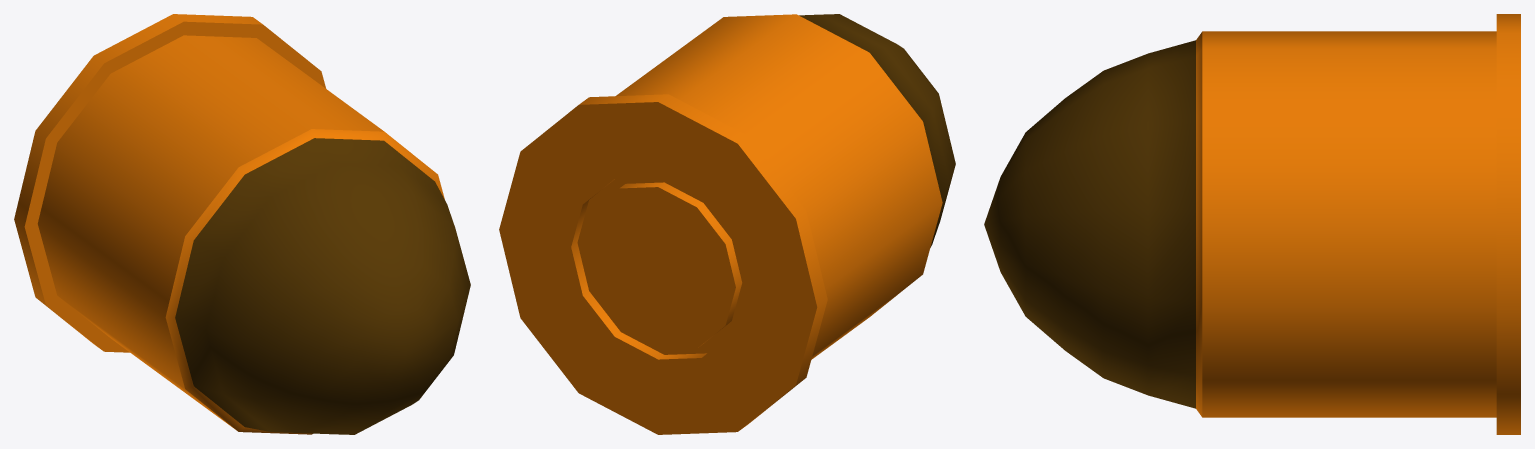
File: Bullet.fbx
The picture shows the model from 3 angles, left to right: view 1: azimuth 30°, elevation 25°; view 2: azimuth 150°, elevation 25°; view 3: azimuth 270°, elevation 25°; orthographic projection. The views are drawn at different scales.
Visible parts, largest first — view 1: Capsule001; view 2: Capsule001; view 3: Capsule001.
Part boxes in pixels (x1=…): Capsule001: x1=14, y1=14, x2=470, y2=434; Capsule001: x1=499, y1=14, x2=955, y2=434; Capsule001: x1=984, y1=14, x2=1520, y2=434.
Bounding box in the file's own units: 1.6 × 1.6 × 2.03.
